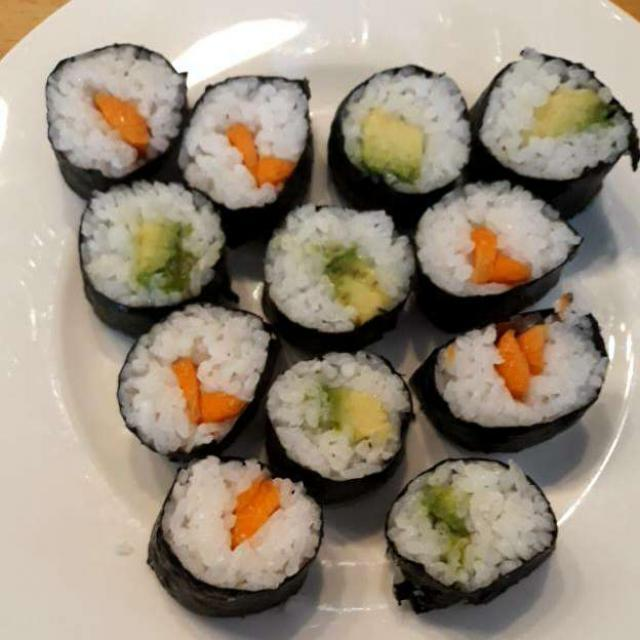sushi: (50, 49, 622, 605)
